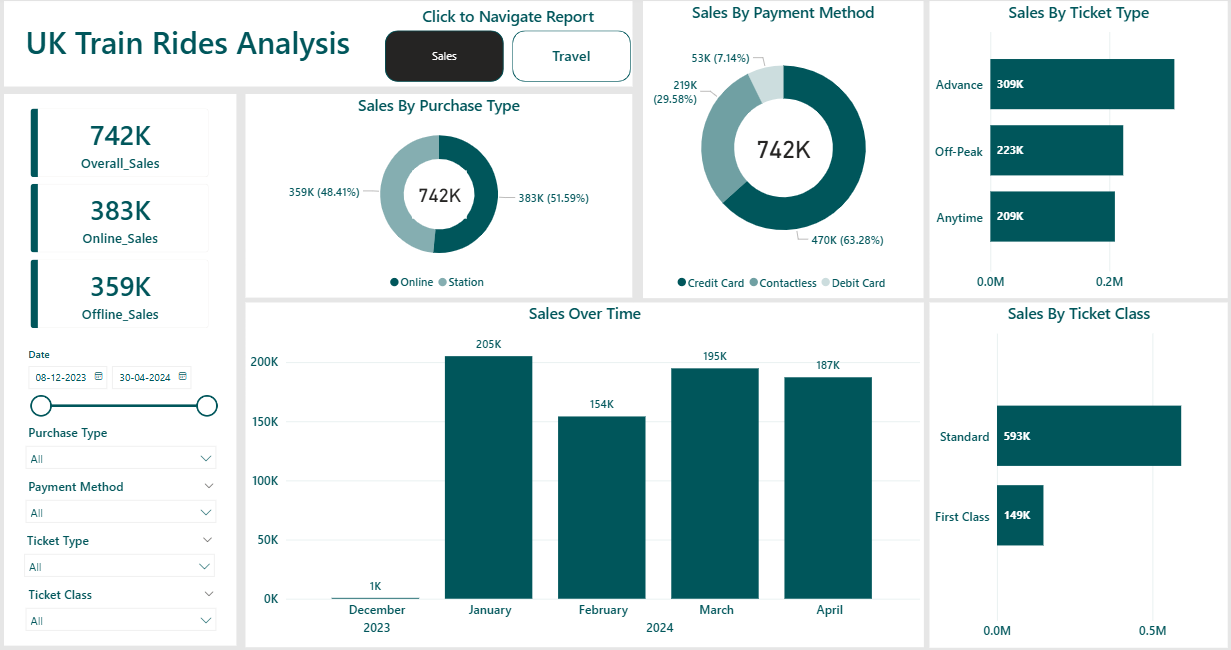

Layout of this report page (visuals, bound fields, positions):
{"tool":"powerbi","page":{"name":"Sales","canvas":[1500,800],"ordinal":0},"visuals":[{"type":"shape","box":[11.6,119.8,280.3,664.9],"z":0},{"type":"shape","box":[10.8,7.2,757.2,103],"z":1000},{"type":"textbox","box":[23.5,25.3,417.5,74.1],"z":2000},{"type":"cardVisual","fields":{"Data":["Fact.Overall_Sales","Fact.Online_Sales","Fact.Offline_Sales"]},"box":[25.3,119.3,249.4,300],"z":3000},{"type":"columnChart","title":"Sales Over Time","fields":{"Category":["Date_Table.Date.Variation.Date Hierarchy.Year","Date_Table.Date.Variation.Date Hierarchy.Month"],"Y":["Fact.Overall_Sales"]},"box":[301.5,371.1,817.7,415.6],"z":4000},{"type":"donutChart","title":"Sales By Purchase Type","fields":{"Category":["Purchase_Type_Dim.Purchase Type"],"Y":["Sum(Fact.Price)"]},"box":[301.5,119.8,465.9,245.5],"z":5000,"group":"g2"},{"type":"barChart","title":"Sales By Ticket Class","fields":{"Category":["Ticket_Class_Dim.Ticket Class"],"Y":["Sum(Fact.Price)"]},"box":[1125.9,370.5,359.6,415.7],"z":5000},{"type":"barChart","title":"Sales By Ticket Type","fields":{"Category":["Ticket_Type_Dim.Ticket Type"],"Y":["Sum(Fact.Price)"]},"box":[1125.9,7.2,359.6,357.8],"z":6000},{"type":"pageNavigator","title":"Click to Navigate Report","box":[469.9,12.7,296.4,92.2],"z":7000},{"type":"group","id":"g1","title":"Group 1","box":[780.7,7.2,338,357.8],"z":8000},{"type":"donutChart","title":"Sales By Payment Method","fields":{"Y":["Sum(Fact.Price)"],"Category":["Payment_Method_Dim.Payment Method"]},"box":[780.7,7.2,338,357.8],"z":8000,"group":"g1"},{"type":"group","id":"g2","title":"Group 2","box":[301.5,119.8,465.9,245.5],"z":9000},{"type":"card","fields":{"Values":["Sum(Fact.Price)"]},"box":[910.2,138.6,77.3,88.9],"z":10000,"group":"g1"},{"type":"card","fields":{"Values":["Sum(Fact.Price)"]},"box":[502.5,212.6,65.7,58],"z":10000,"group":"g2"},{"type":"slicer","fields":{"Values":["Date_Table.Date"]},"box":[27.1,419.3,249.4,92.2],"z":10000},{"type":"slicer","fields":{"Values":["Purchase_Type_Dim.Purchase Type"]},"box":[27.1,511.5,249.4,65.1],"z":11000},{"type":"slicer","fields":{"Values":["Payment_Method_Dim.Payment Method"]},"box":[27.1,576.5,249.4,65.1],"z":12000},{"type":"slicer","fields":{"Values":["Ticket_Type_Dim.Ticket Type"]},"box":[25.3,641.6,249.4,65.1],"z":13000},{"type":"slicer","fields":{"Values":["Ticket_Class_Dim.Ticket Class"]},"box":[27.1,706.6,249.4,65.1],"z":14000}]}

Visuals, with their boxes in screenshot pixels (x1, y1, x2, y2), scaled from the page's 1500x800 canvas onto the 1231x650 screenshot:
shape: (10,97,240,638)
shape: (9,6,630,90)
textbox: (19,21,362,81)
cardVisual - Fact.Overall_Sales x Fact.Online_Sales: (21,97,225,341)
"Sales Over Time" columnChart: (247,302,918,639)
"Sales By Purchase Type" donutChart: (247,97,630,297)
"Sales By Ticket Class" barChart: (924,301,1219,639)
"Sales By Ticket Type" barChart: (924,6,1219,297)
"Click to Navigate Report" pageNavigator: (386,10,629,85)
"Group 1" group: (641,6,918,297)
"Sales By Payment Method" donutChart: (641,6,918,297)
"Group 2" group: (247,97,630,297)
card - Sum(Fact.Price): (747,113,810,185)
card - Sum(Fact.Price): (412,173,466,220)
slicer - Date_Table.Date: (22,341,227,416)
slicer - Purchase_Type_Dim.Purchase Type: (22,416,227,468)
slicer - Payment_Method_Dim.Payment Method: (22,468,227,521)
slicer - Ticket_Type_Dim.Ticket Type: (21,521,225,574)
slicer - Ticket_Class_Dim.Ticket Class: (22,574,227,627)
